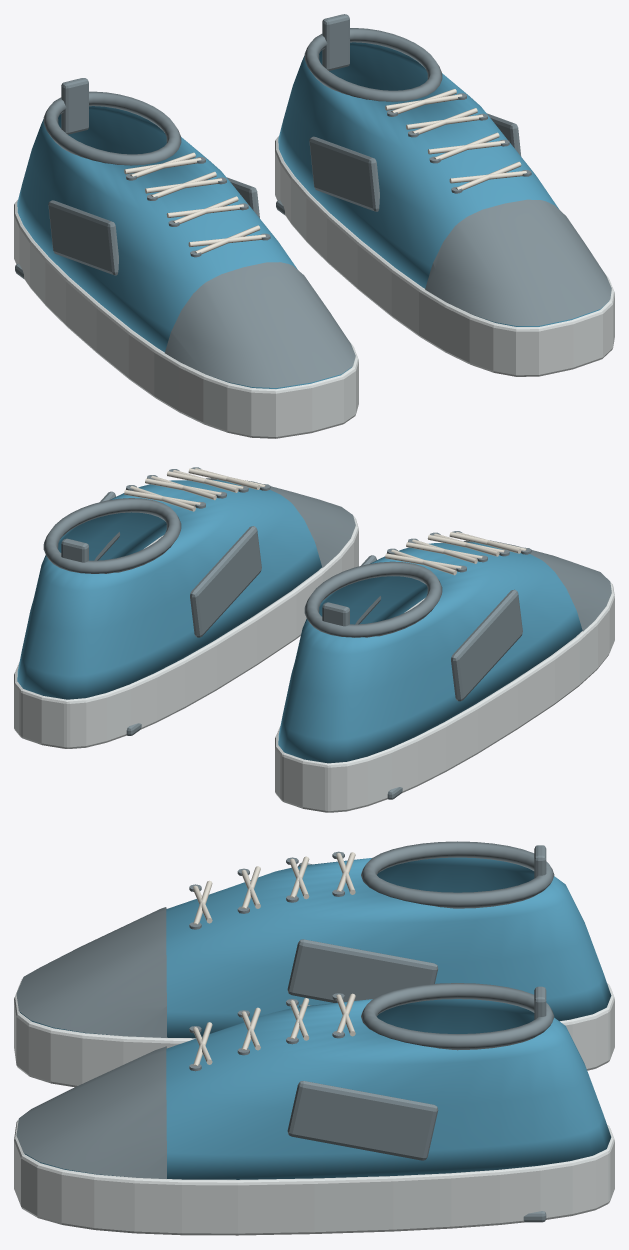
The model's file is shoes_mens_running_shoe_pair.glb.
3 renders of one model, top to bottom at view 1: azimuth 30°, elevation 25°; view 2: azimuth 150°, elevation 25°; view 3: azimuth 270°, elevation 25°, orthographic. The views are drawn at different scales.
Parts seen in each view (by area): view 1: Left shoe | upper shell, Right shoe | upper shell, Left shoe | outsole, Right shoe | outsole, Left shoe | rounded toe cap, Right shoe | rounded toe cap, Right shoe | collar binding, Left shoe | collar binding, Left shoe | support side panel, Right shoe | support side panel, Left shoe | heel pull tab, Right shoe | heel pull tab; view 2: Right shoe | upper shell, Left shoe | upper shell, Left shoe | outsole, Right shoe | outsole, Right shoe | collar binding, Left shoe | collar binding, Left shoe | support side panel, Right shoe | support side panel, Right shoe | rounded toe cap, Left shoe | rounded toe cap, Right shoe | heel pull tab, Left shoe | heel pull tab; view 3: Right shoe | upper shell, Left shoe | upper shell, Right shoe | outsole, Right shoe | rounded toe cap, Left shoe | rounded toe cap, Left shoe | outsole, Right shoe | support side panel.001, Left shoe | support side panel.001, Left shoe | collar binding, Right shoe | collar binding.
Part boxes in pixels (x1,y1,x2,y2): Left shoe | upper shell: [17, 106, 351, 388]; Right shoe | upper shell: [278, 42, 608, 326]; Left shoe | outsole: [14, 200, 358, 438]; Right shoe | outsole: [275, 136, 614, 376]; Left shoe | rounded toe cap: [165, 262, 355, 387]; Right shoe | rounded toe cap: [425, 199, 611, 325]; Right shoe | collar binding: [304, 28, 442, 101]; Left shoe | collar binding: [43, 91, 181, 165]; Left shoe | support side panel: [48, 200, 118, 275]; Right shoe | support side panel: [309, 136, 379, 211]; Left shoe | heel pull tab: [61, 78, 88, 134]; Right shoe | heel pull tab: [322, 14, 349, 70]; Right shoe | upper shell: [17, 479, 321, 699]; Left shoe | upper shell: [278, 542, 582, 763]; Left shoe | outsole: [275, 582, 614, 812]; Right shoe | outsole: [14, 516, 358, 748]; Right shoe | collar binding: [43, 498, 181, 573]; Left shoe | collar binding: [304, 561, 442, 637]; Left shoe | support side panel: [451, 589, 522, 701]; Right shoe | support side panel: [190, 526, 261, 637]; Right shoe | rounded toe cap: [206, 478, 355, 567]; Left shoe | rounded toe cap: [464, 540, 611, 631]; Right shoe | heel pull tab: [61, 538, 88, 562]; Left shoe | heel pull tab: [322, 602, 349, 626]; Right shoe | upper shell: [24, 999, 611, 1179]; Left shoe | upper shell: [20, 857, 611, 1038]; Right shoe | outsole: [14, 1120, 614, 1235]; Right shoe | rounded toe cap: [16, 1046, 166, 1178]; Left shoe | rounded toe cap: [16, 907, 166, 1037]; Left shoe | outsole: [14, 979, 614, 1087]; Right shoe | support side panel.001: [287, 1081, 438, 1160]; Left shoe | support side panel.001: [287, 939, 438, 1002]; Left shoe | collar binding: [361, 841, 554, 908]; Right shoe | collar binding: [361, 983, 554, 1050].
Bounding box in the file's own units: 0.2713 × 0.1095 × 0.298.
